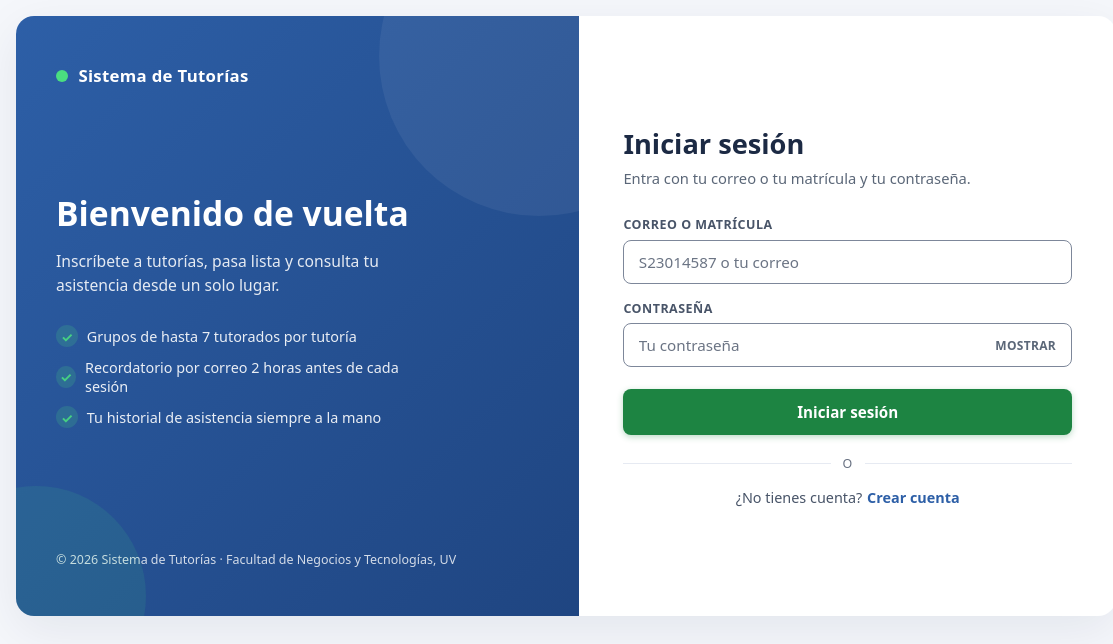
Scenario: Iniciar sesion (01) › muestra el bloqueo por intentos y los errores por campo del backend
Step 1. Type "S23014587" into the field labelled "Correo o matrícula" → (848, 262), box [623,240,1072,284]
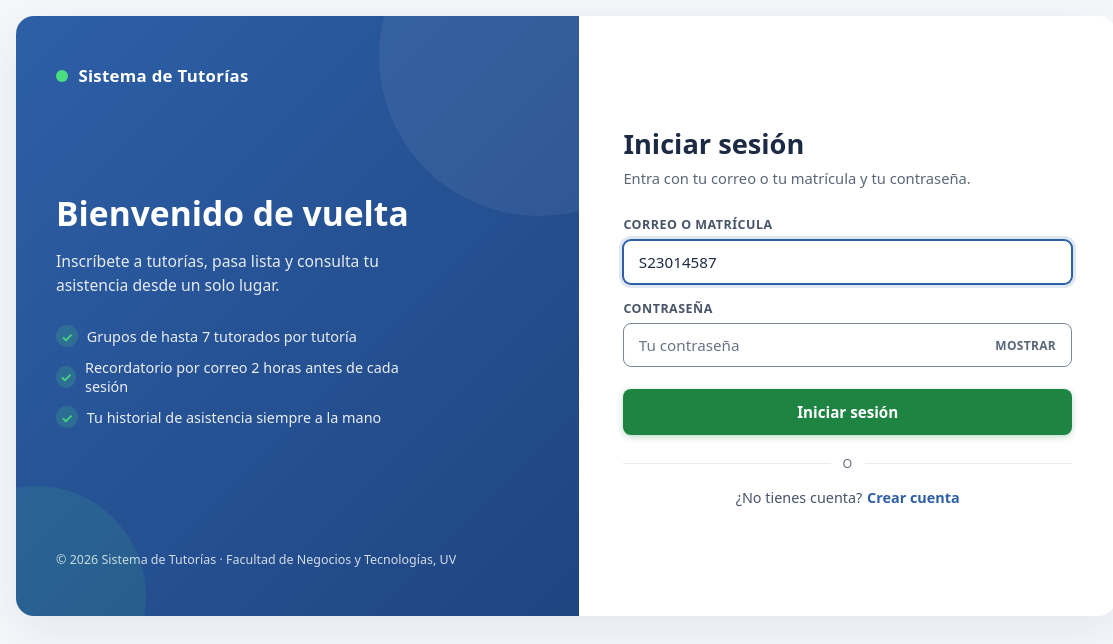
Step 2. Type "secreta1" into the password field labelled "Contraseña" → (848, 345), box [623,323,1072,367]
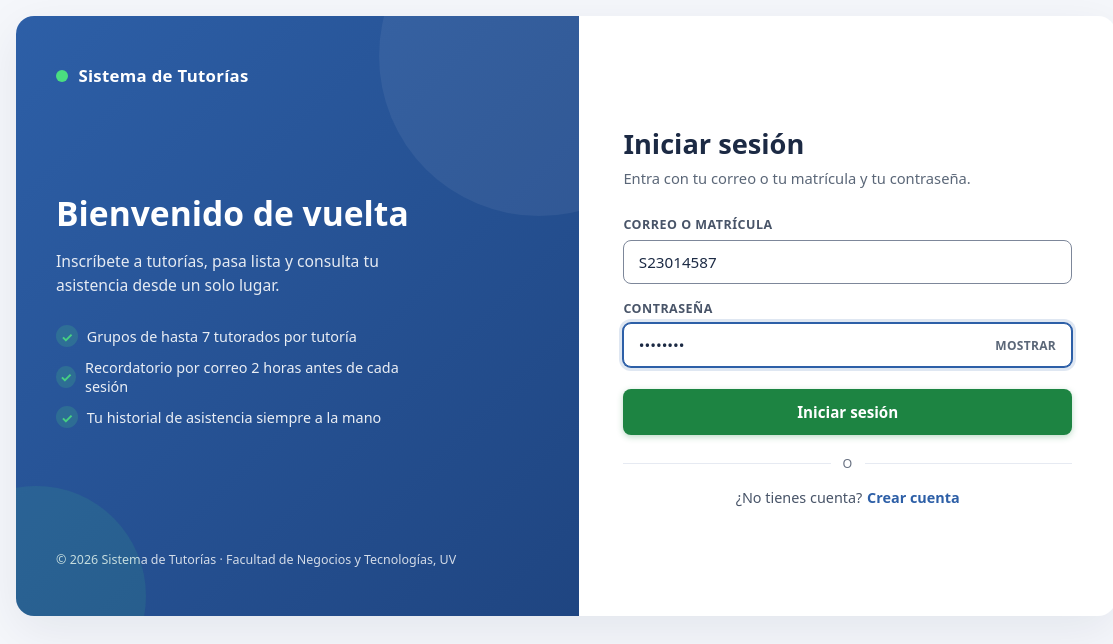
Step 3. Click the button "Iniciar sesión" → click(848, 412), box [623,389,1072,435]
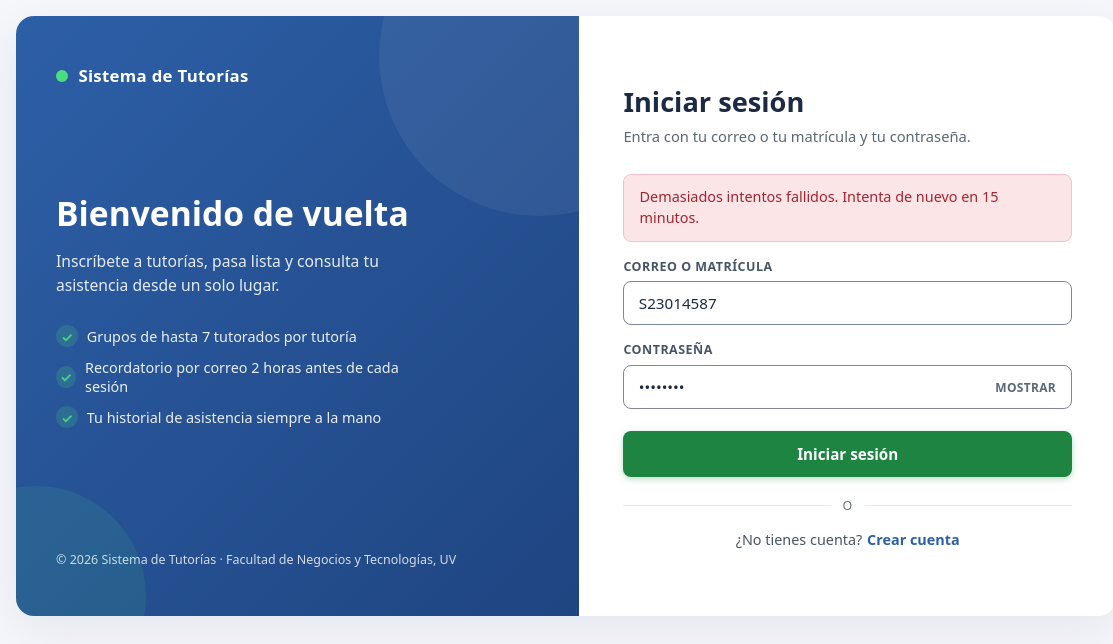
Expected: the message reads "Demasiados intentos fallidos. Intenta de nuevo en 15 minutos.", [640,187,998,227]
Step 4. Click the button "Iniciar sesión" → click(848, 454), box [623,431,1072,477]
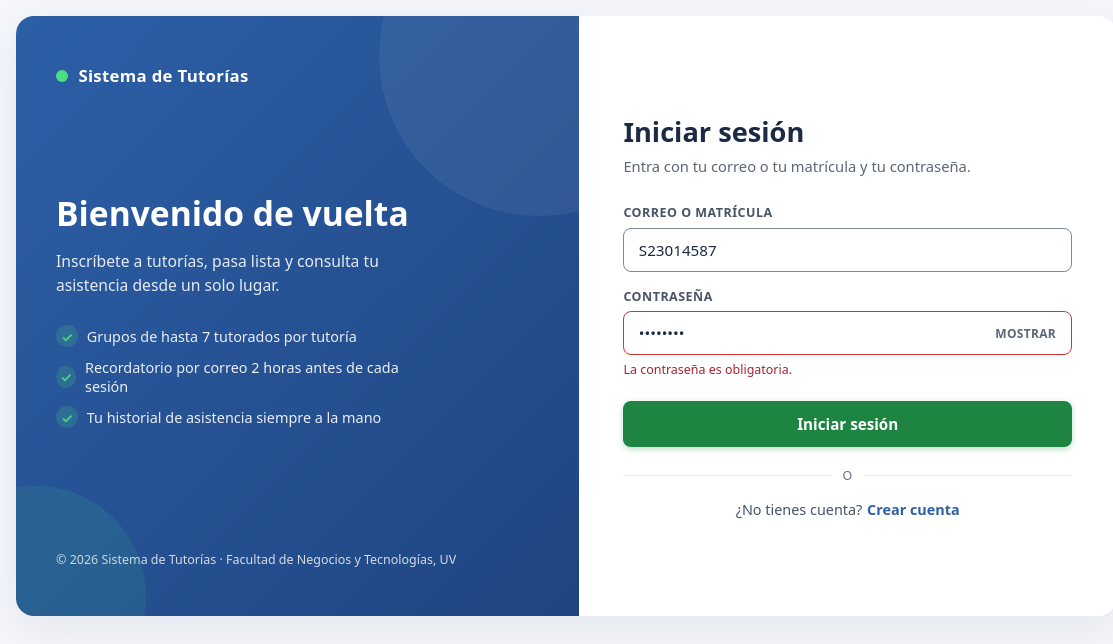
Expected: the text "La contraseña es obligatoria." is shown, [623,361,792,378]
